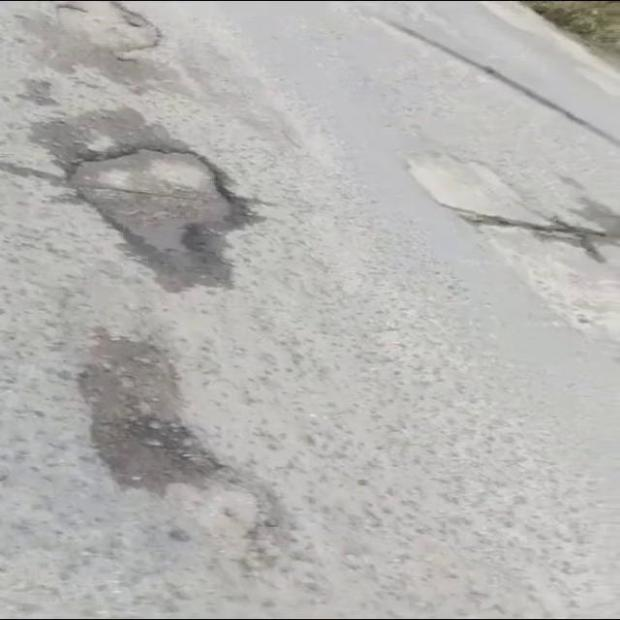lubang: (71, 145, 255, 288), (79, 332, 224, 491), (438, 202, 619, 264), (45, 2, 161, 73)
